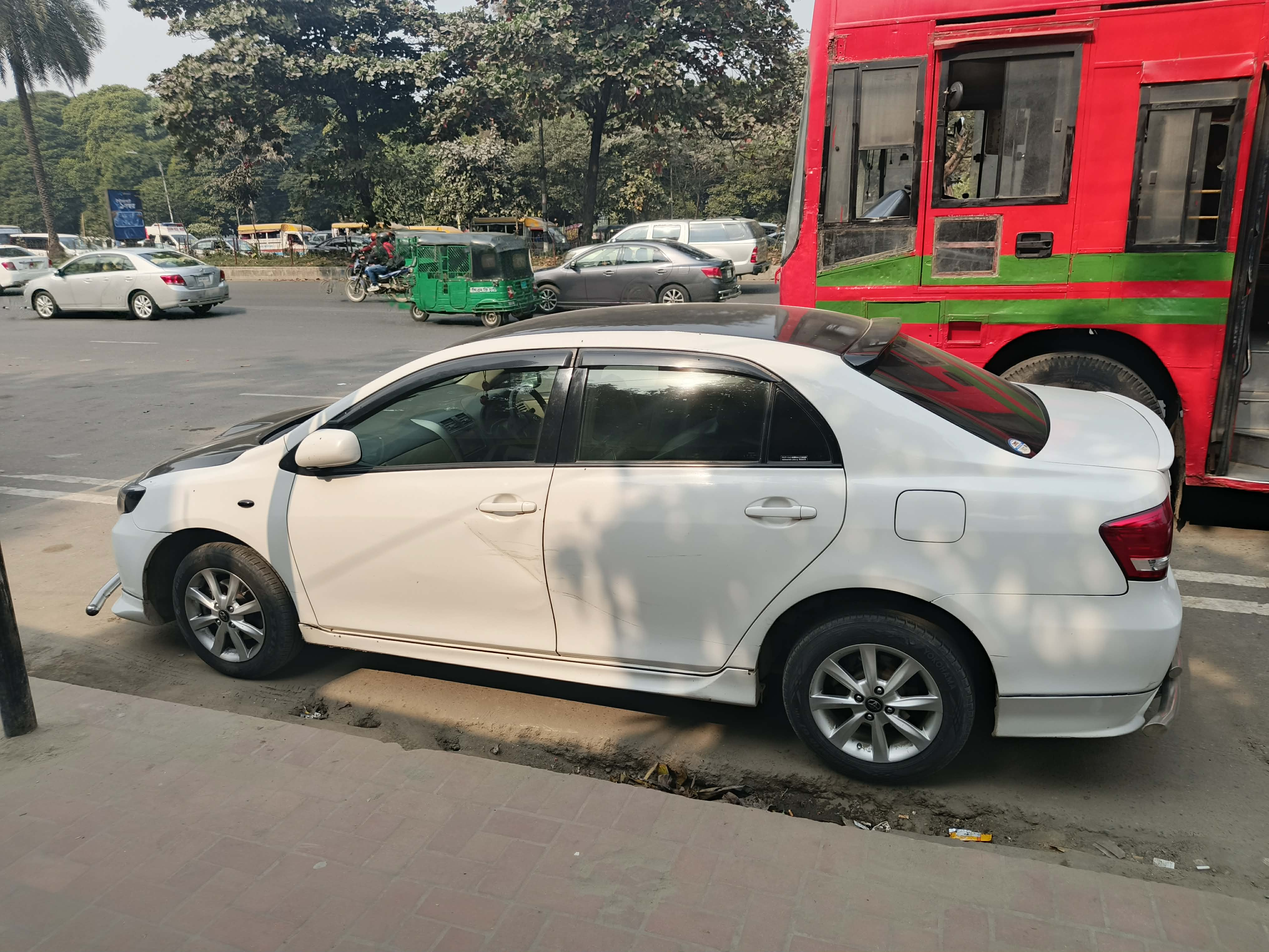Ambulance: (140, 219, 204, 252)
Bikes: (340, 224, 414, 313)
Bus: (782, 5, 1269, 486)
Leguna: (233, 210, 328, 260), (328, 208, 460, 233), (469, 210, 579, 238)
cng: (401, 211, 543, 325)
private car: (100, 277, 1269, 803), (6, 222, 212, 341), (576, 217, 768, 310)
